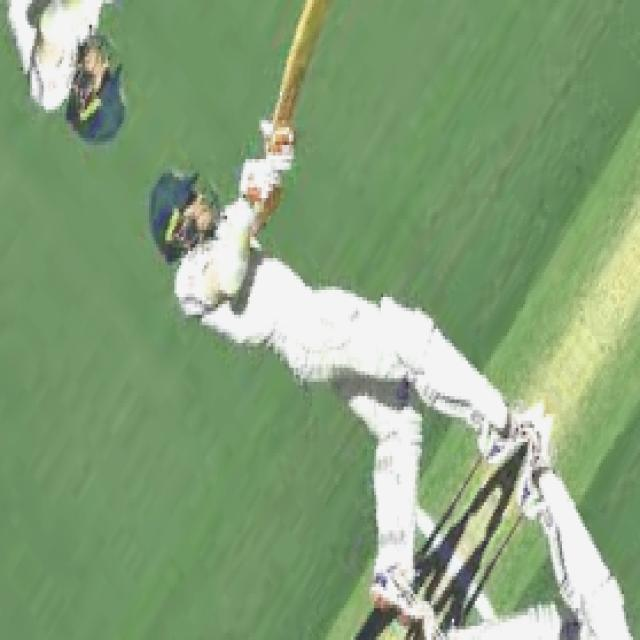toe: (305, 0, 335, 12)
